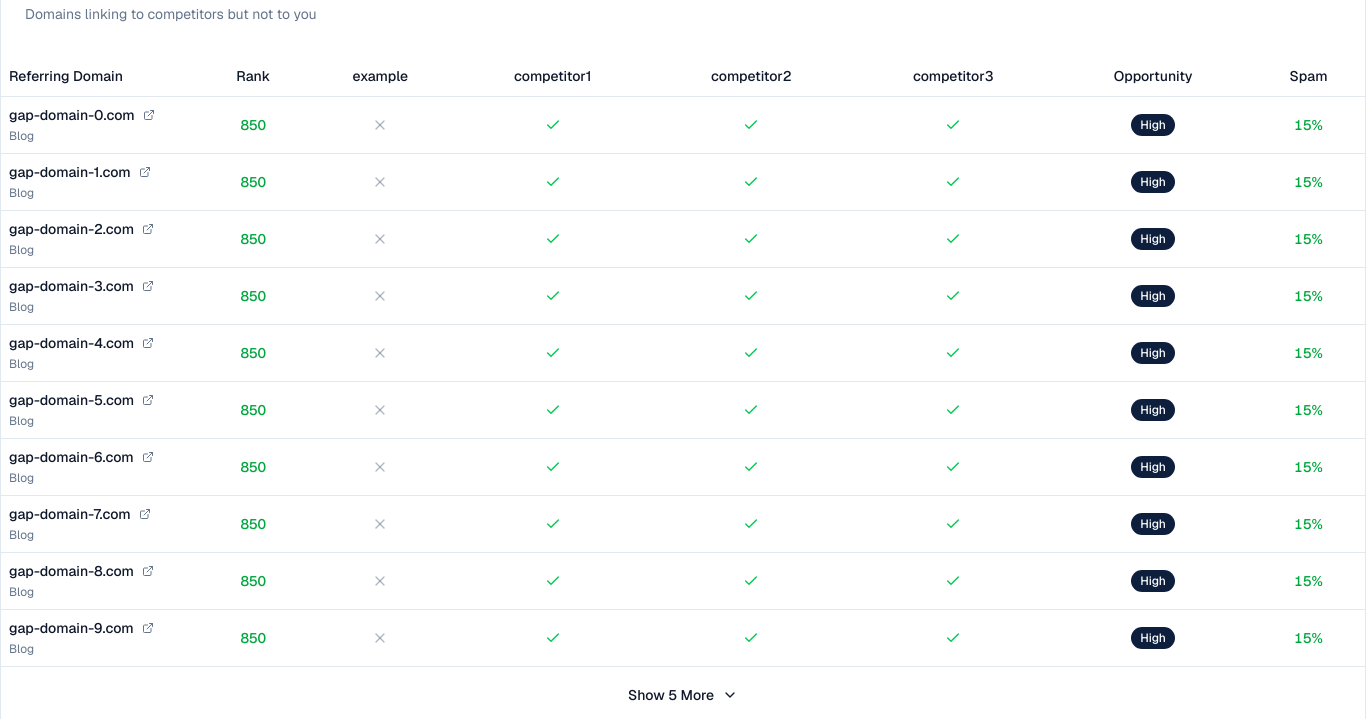
Test: BacklinkGap › show more/less functionality › toggles between show more and show less
Click show more
Click the button "Show 5 More": click(683, 694) left=618, top=678, right=748, bottom=710
(page scrolled)
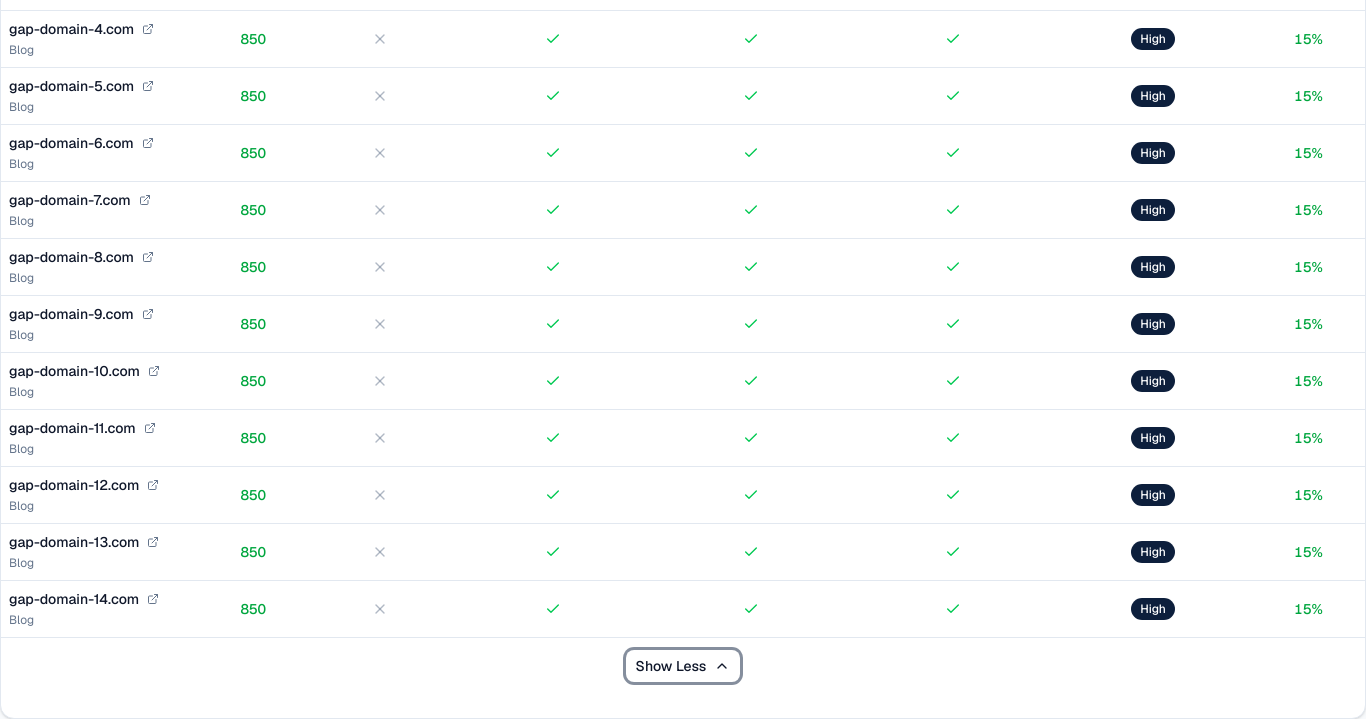
Result: the button "Show Less" is shown
Click show less
Click the button "Show Less": click(683, 666) left=626, top=650, right=740, bottom=682
(page scrolled)
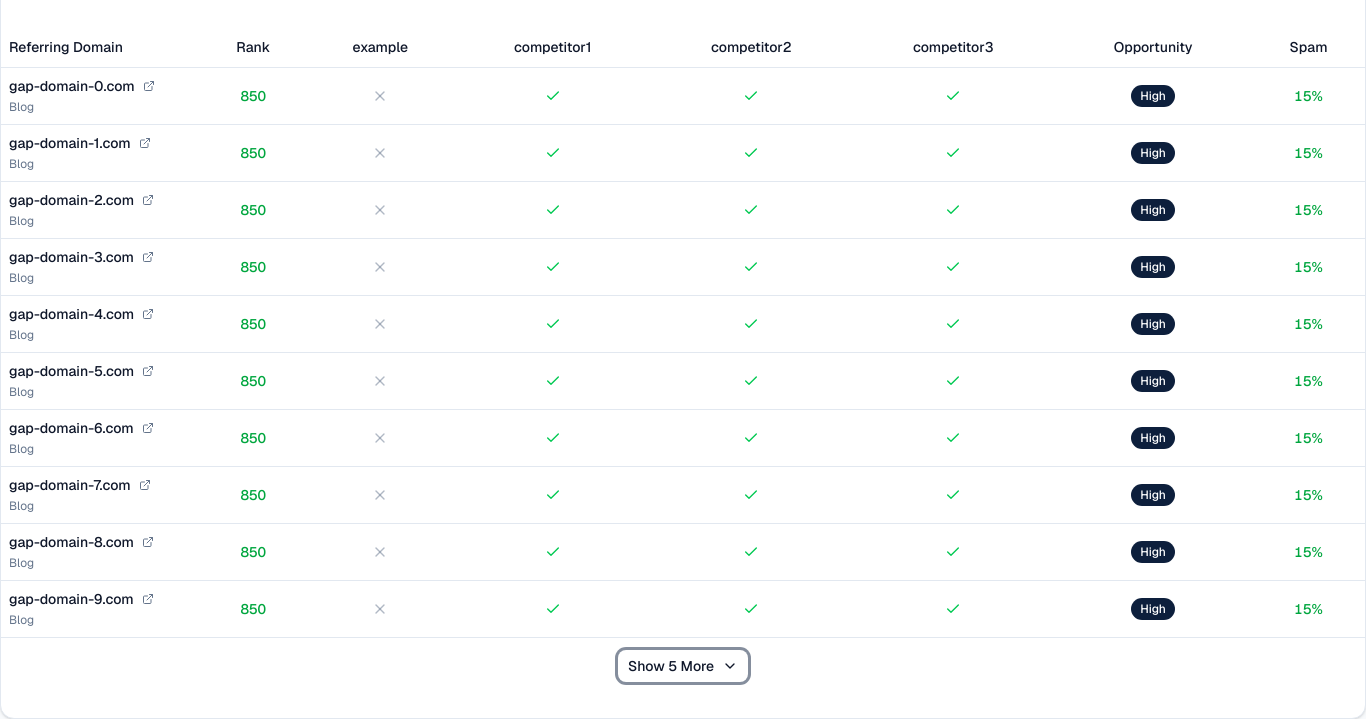
Result: the button "Show 5 More" is shown at left=618, top=650, right=748, bottom=682
